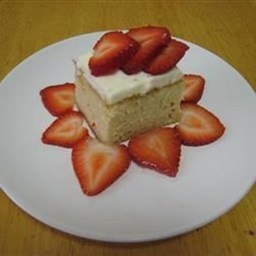background: (16, 9, 90, 78)
